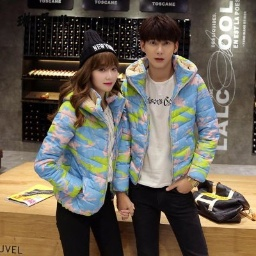face: (136, 15, 182, 76), (75, 51, 122, 103)
